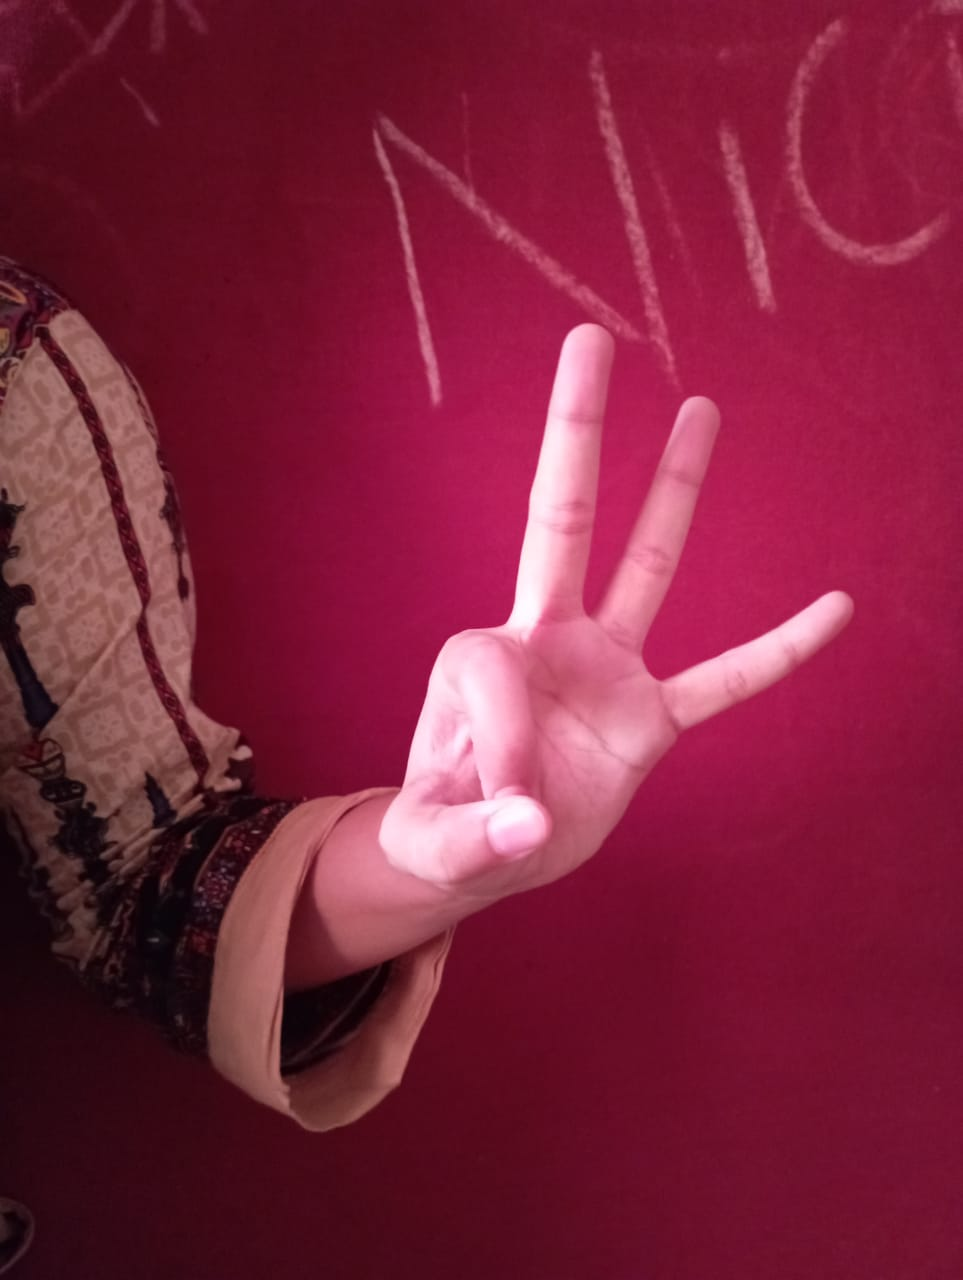Awesome: (376, 314, 866, 947)
